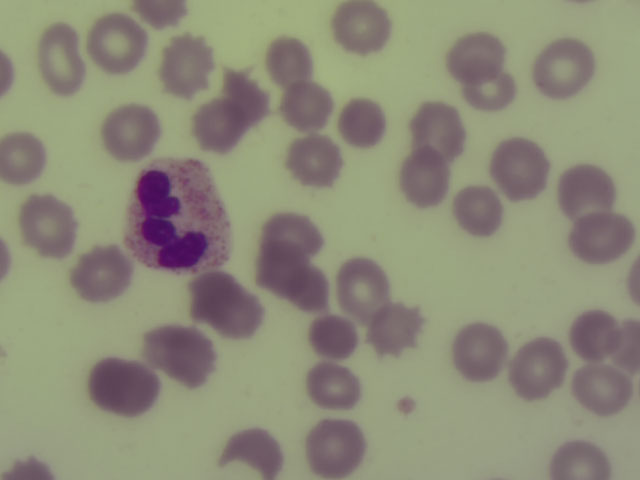Platelets: (390, 389, 423, 423)
RBC: (35, 24, 86, 97), (410, 99, 469, 154), (256, 211, 326, 257), (453, 323, 508, 381), (515, 339, 570, 397), (493, 137, 548, 195), (447, 183, 502, 241), (225, 422, 280, 480), (310, 417, 365, 475), (366, 299, 421, 357), (95, 356, 150, 414), (152, 324, 207, 382), (199, 273, 254, 331), (335, 255, 390, 313), (71, 246, 126, 304), (19, 197, 74, 255), (101, 105, 156, 163), (536, 38, 591, 96), (398, 149, 453, 207), (197, 91, 252, 149), (335, 97, 390, 155), (286, 134, 341, 192), (158, 38, 213, 96), (88, 14, 143, 72), (330, 1, 391, 52), (1, 129, 54, 187), (302, 361, 365, 407), (444, 30, 505, 77), (279, 81, 335, 132), (573, 211, 626, 263), (574, 364, 630, 411), (560, 167, 613, 216), (265, 33, 314, 86), (549, 437, 609, 480), (461, 68, 517, 114), (311, 311, 358, 357), (257, 245, 303, 290), (571, 310, 615, 356), (607, 318, 640, 378), (285, 264, 329, 309), (1, 448, 57, 480), (127, 1, 192, 26), (1, 49, 18, 107)
WBC: (123, 162, 232, 275)
